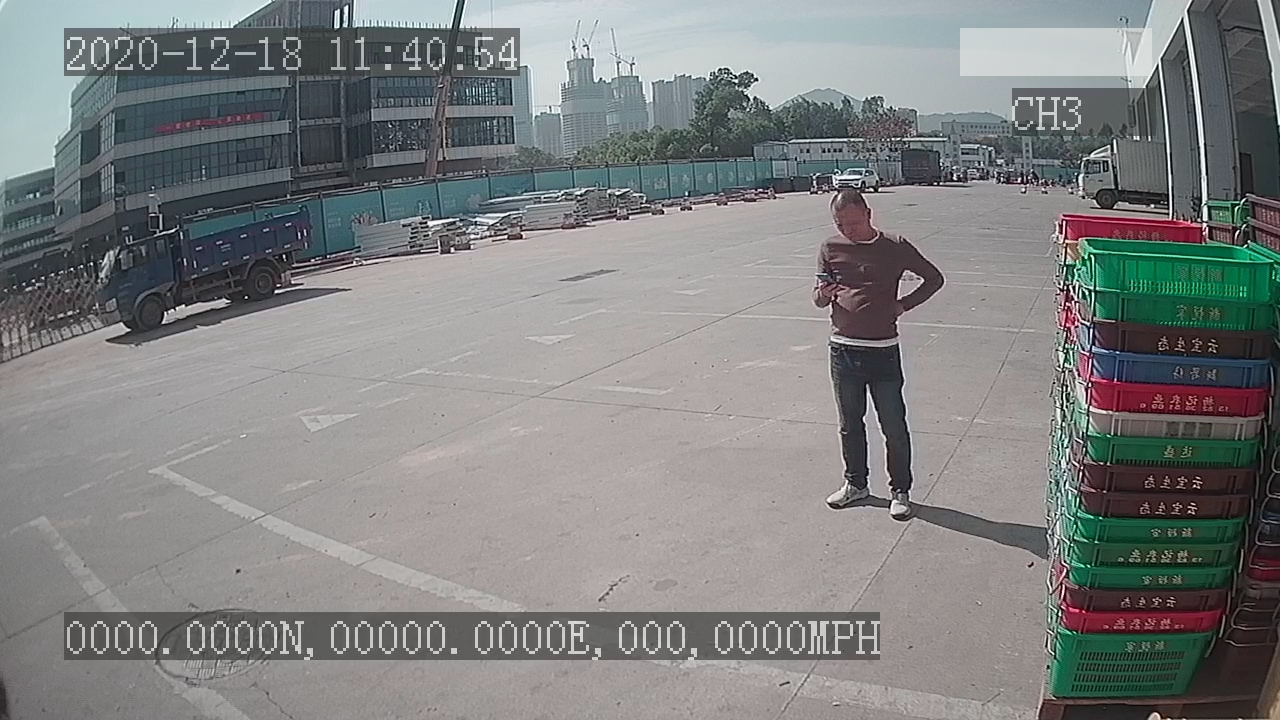person: (808, 190, 946, 522)
